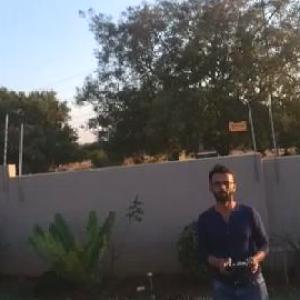follow: (192, 162, 278, 299)
